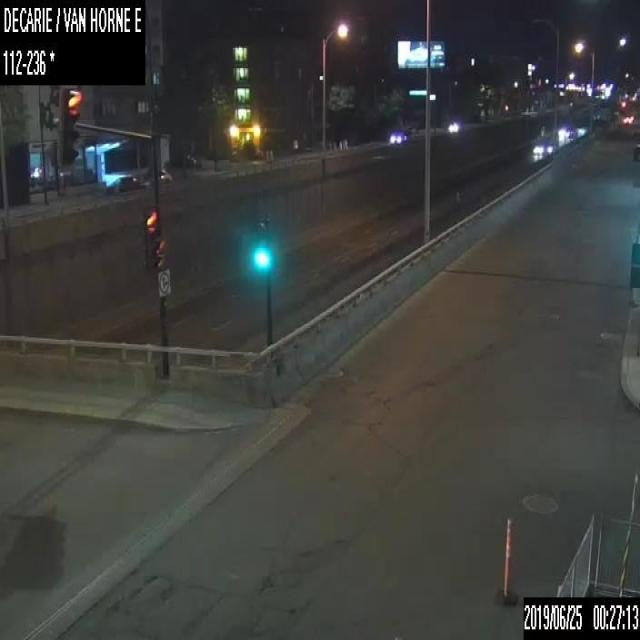construction: (496, 514, 520, 602), (269, 148, 273, 160), (264, 149, 268, 160)
vehicle: (104, 175, 142, 193), (388, 129, 407, 143), (622, 116, 632, 124)
